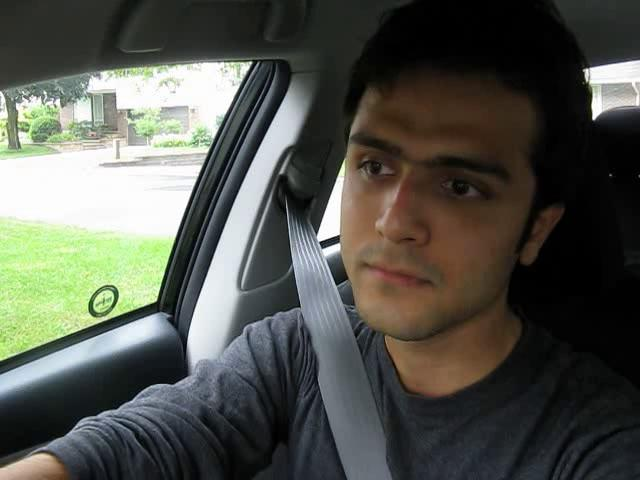no_yawn: (343, 243, 456, 305)
open_eyeL: (343, 145, 407, 188)
open_eyeR: (427, 164, 516, 213)
